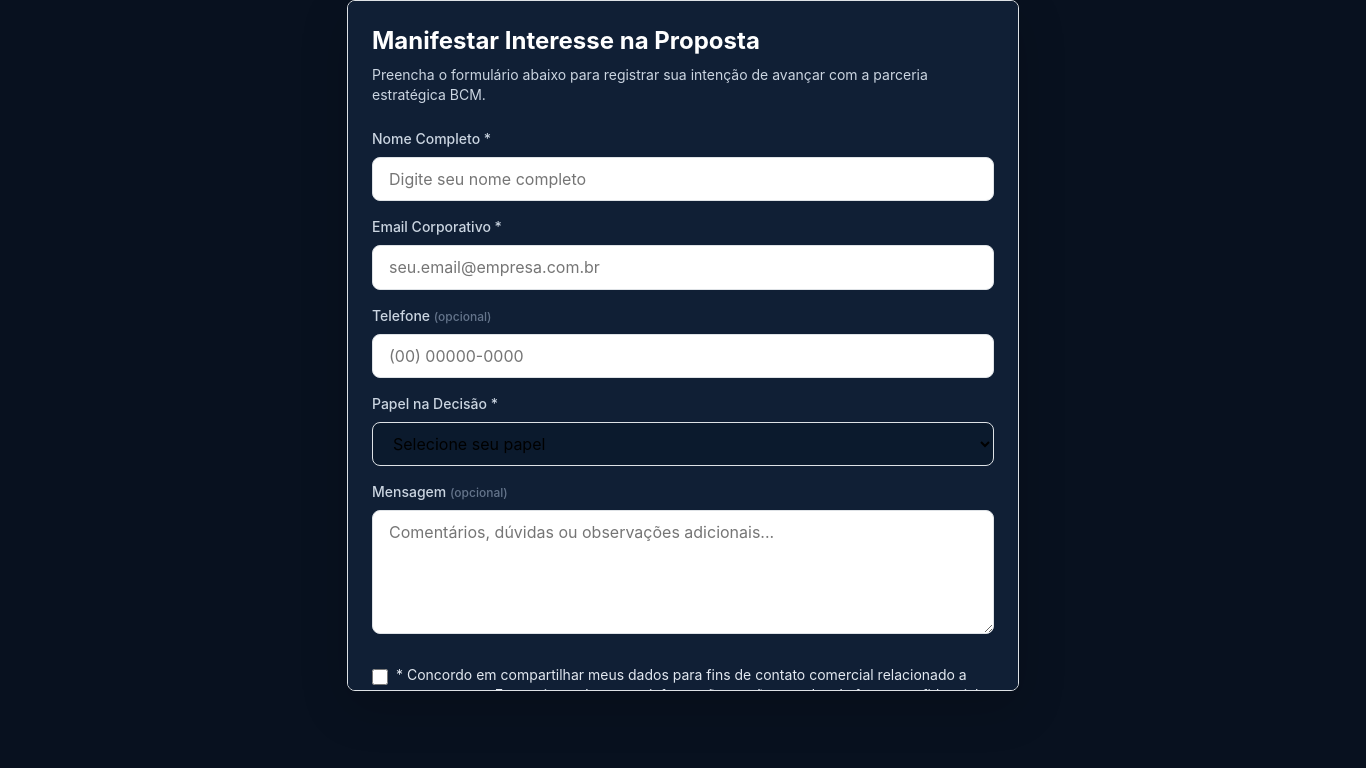
it: IntentForm › Validation › should show error when email is empty
Click the field labelled "Email Corporativo *" at (683, 268), box [372,245,994,290]
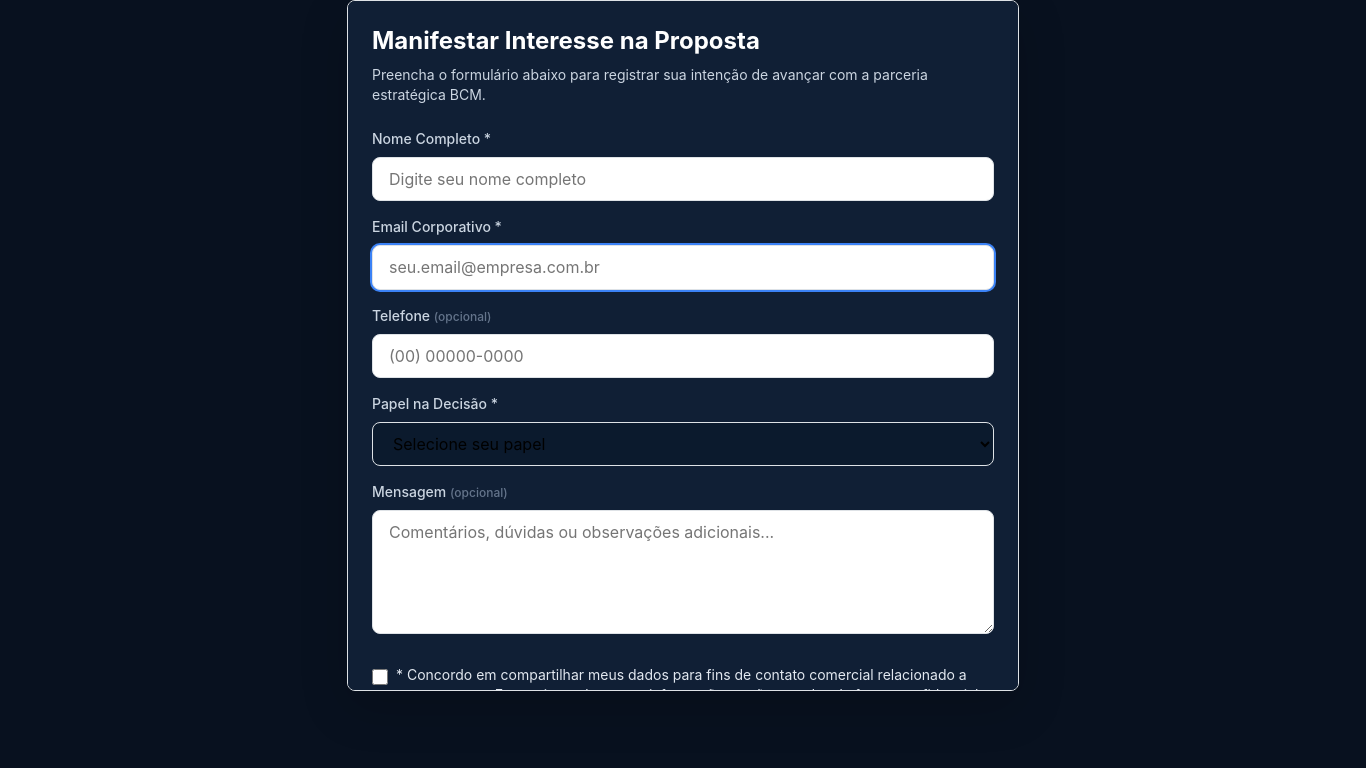
Click the element that starts with "Manifestar Interesse na Proposta" at (683, 384), box [0,0,1365,767]
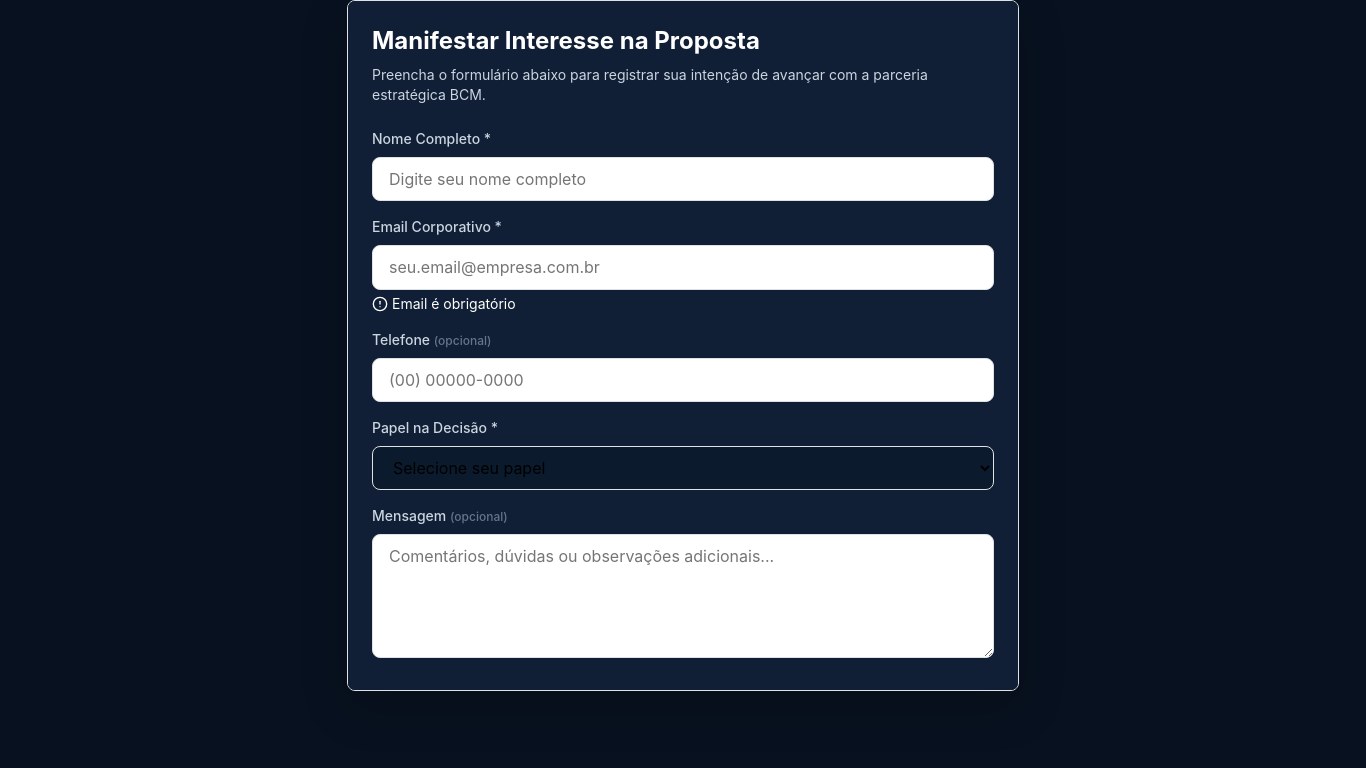
Result: the text "Email é obrigatório" is shown at [372,295,516,312]
